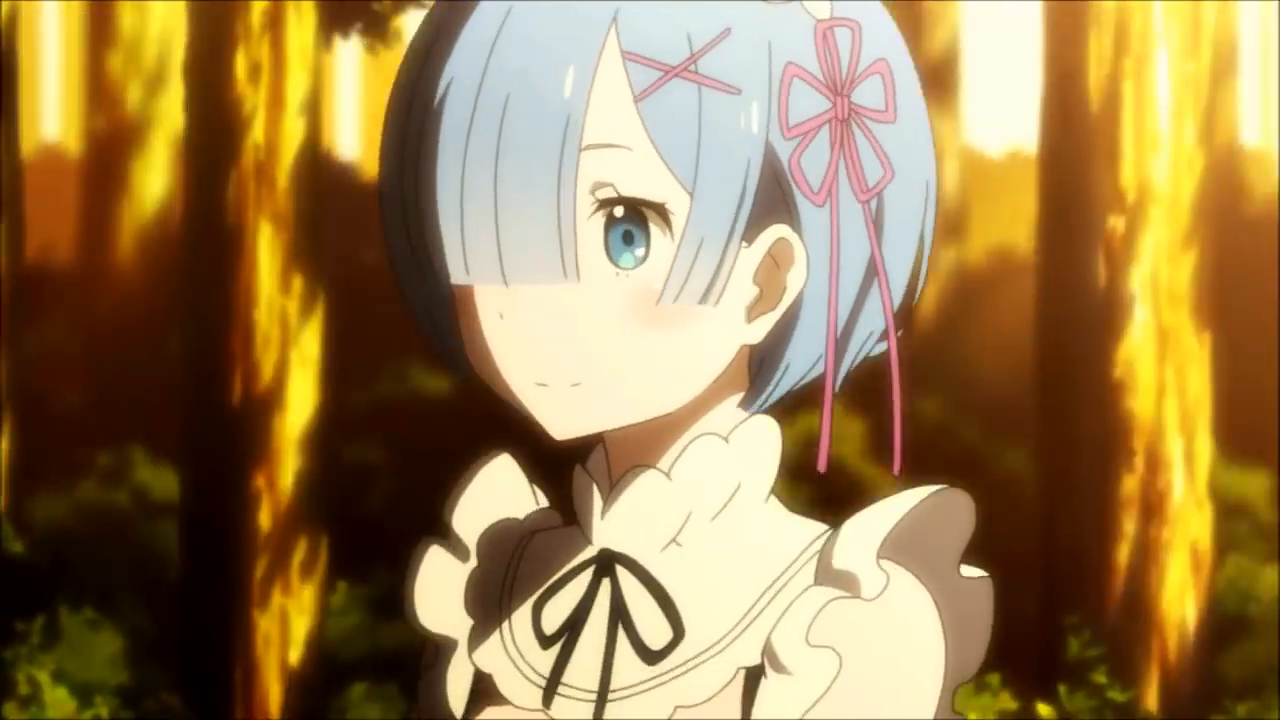REM: (376, 1, 944, 449)
